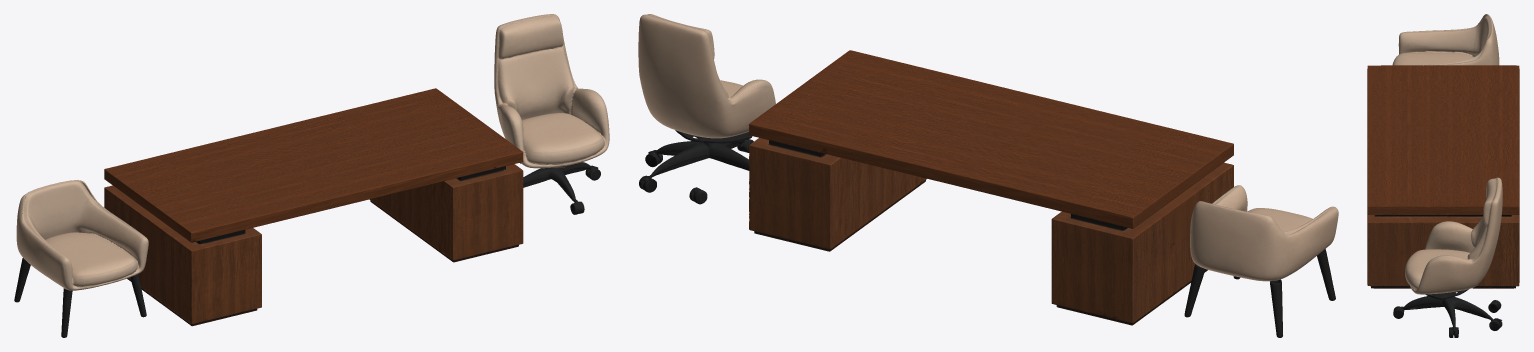
The model's file is desk-armchair-chair.glb.
3 renders of one model, left to right at view 1: azimuth 30°, elevation 25°; view 2: azimuth 150°, elevation 25°; view 3: azimuth 270°, elevation 25°, orthographic. The views are drawn at different scales.
Bounding box in the file's own units: 1.9 × 0.4946 × 0.5057.
1 material, 1 textured.
